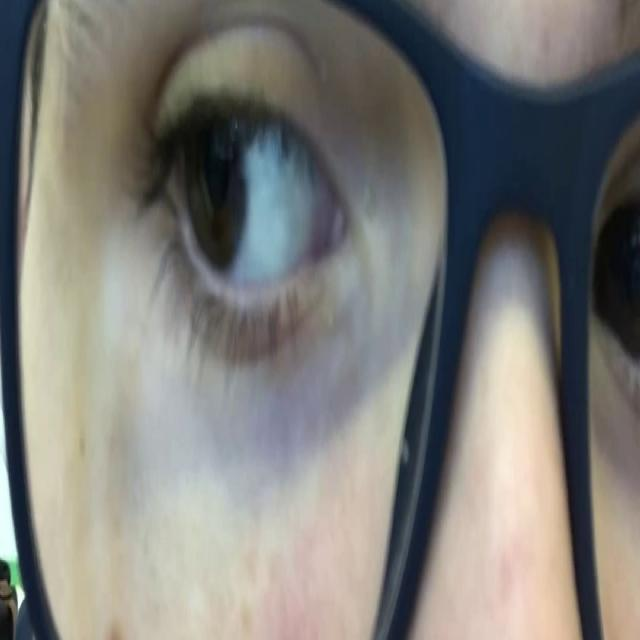eye: (143, 66, 361, 362)
gaze: (182, 106, 248, 271)
